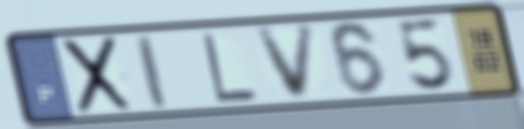5: (393, 16, 457, 93)
6: (328, 19, 389, 98)
I: (131, 32, 172, 111)
L: (198, 30, 262, 104)
V: (252, 21, 320, 103)
X: (59, 33, 135, 117)
